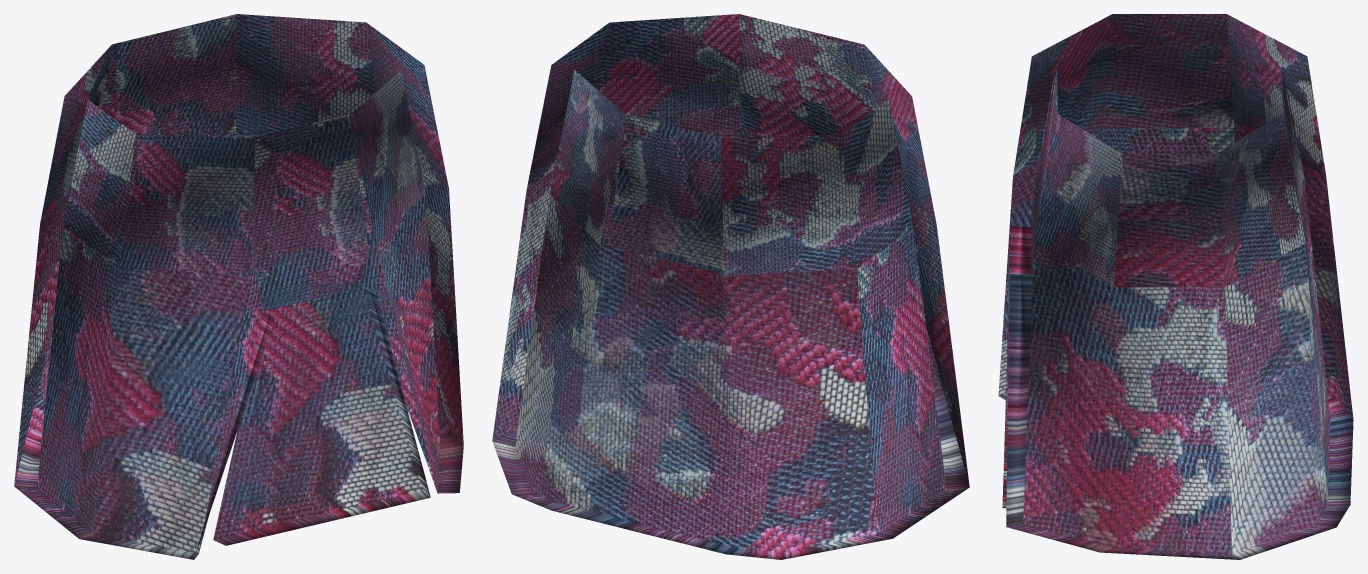
Rendered from Skirt_NewVersion1.gltf.
3 renders of one model, left to right at view 1: azimuth 30°, elevation 25°; view 2: azimuth 150°, elevation 25°; view 3: azimuth 270°, elevation 25°, orthographic.
Parts seen in each view (by area): view 1: Cylinder; view 2: Cylinder; view 3: Cylinder.
Boxes of the visible parts, bbox=[...] form: Cylinder: bbox=[14, 14, 463, 559]; Cylinder: bbox=[492, 14, 969, 559]; Cylinder: bbox=[998, 14, 1353, 559].
Size of the model in its own units: 0.4514 by 0.4141 by 0.3492.
Materials: 1 (1 with a texture image).
